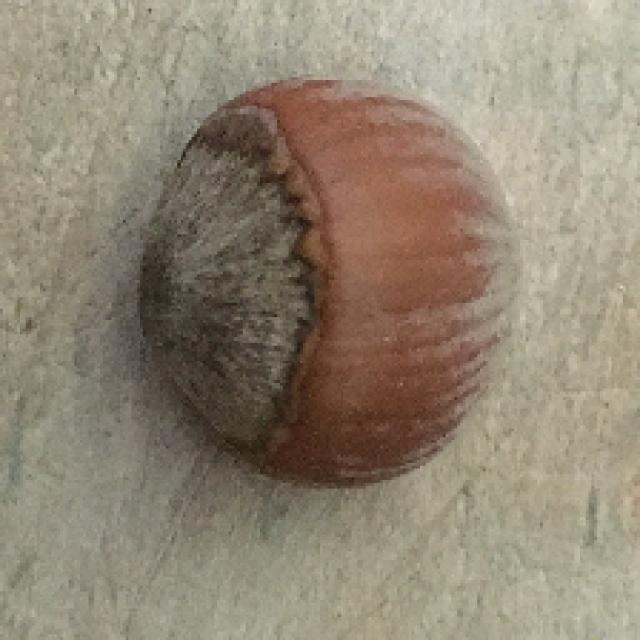qualityHazelnut: (142, 74, 522, 486)
